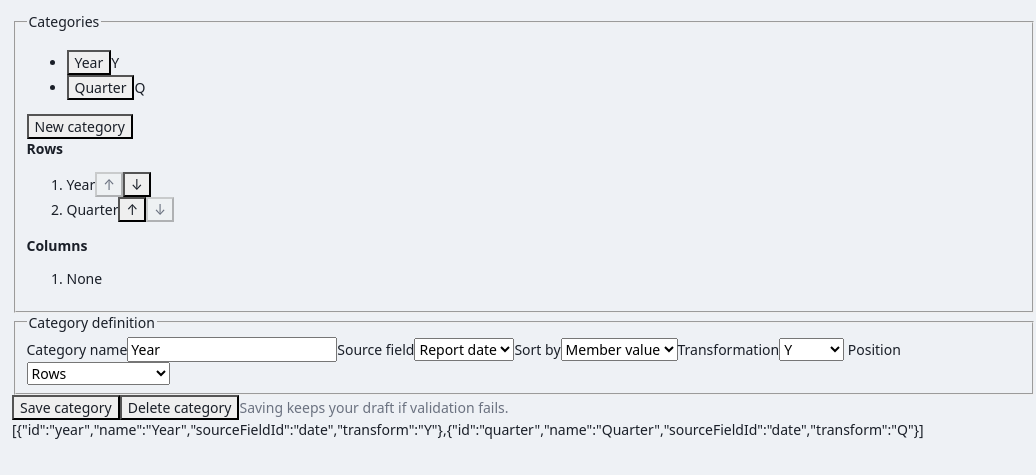
Scenario: sorts a category by another field or member value
The width and height of the screenshot is (1036, 475).
Step 1. Select "Revenue" in the dropdown labelled "Sort by" → (619, 349), box [560, 338, 678, 360]
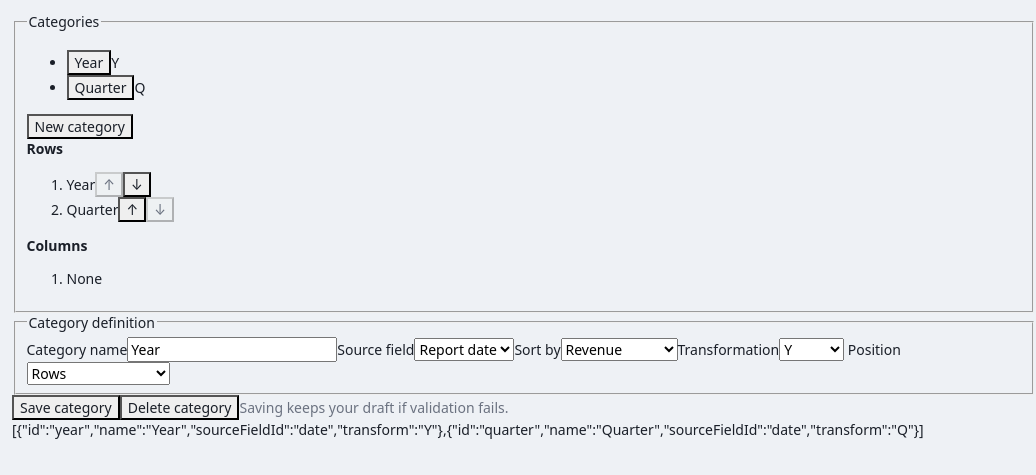
Step 2. Click the button "Save category" → (66, 408), box [12, 395, 120, 420]
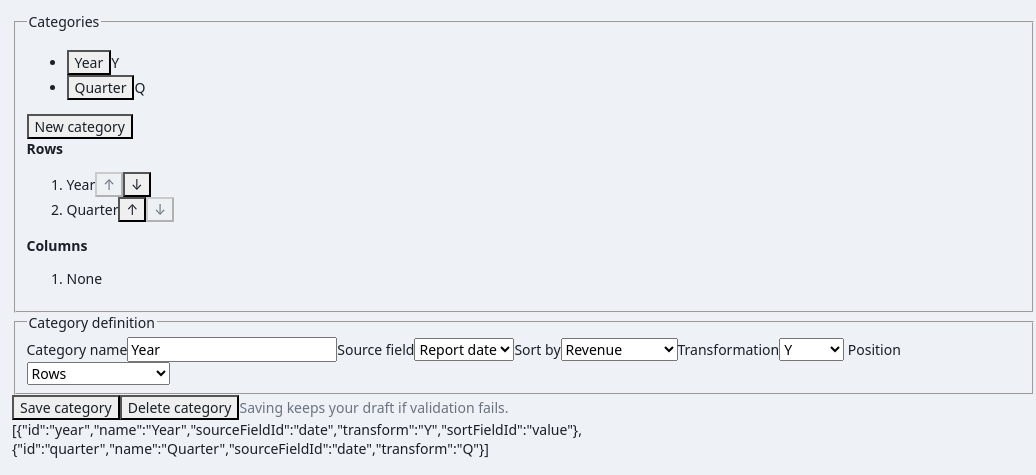
Now the text named "Saved categories" shows "\"id\":\"year\",\"name\":\"Year\",\"sourceFieldId\":\"date\",\"transform\":\"Y\",\"sortFieldId\":\"value\"", box [12, 420, 582, 458]
Step 3. Select "Member value" in the dropdown labelled "Sort by" → (619, 349), box [560, 338, 678, 360]
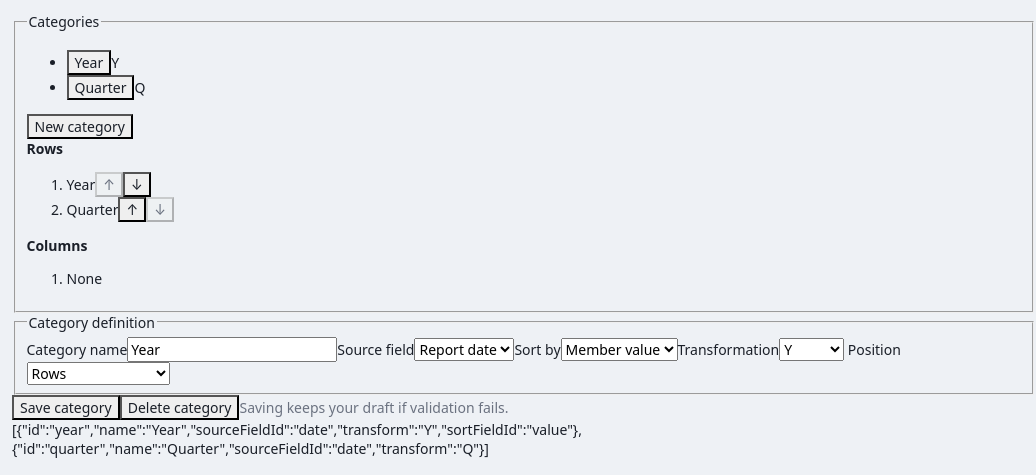
Step 4. Click the button "Save category" → (66, 408), box [12, 395, 120, 420]
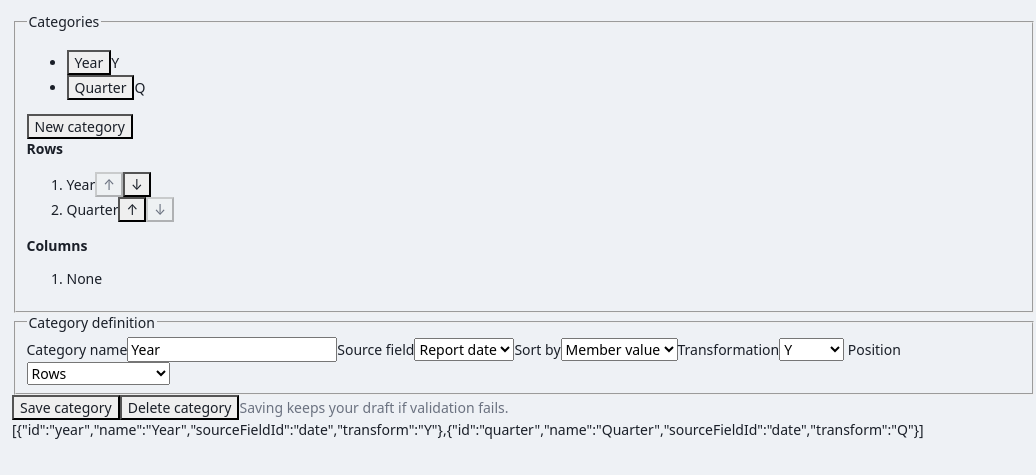
Now the text named "Saved categories" no longer shows "sortFieldId", box [12, 420, 924, 439]
